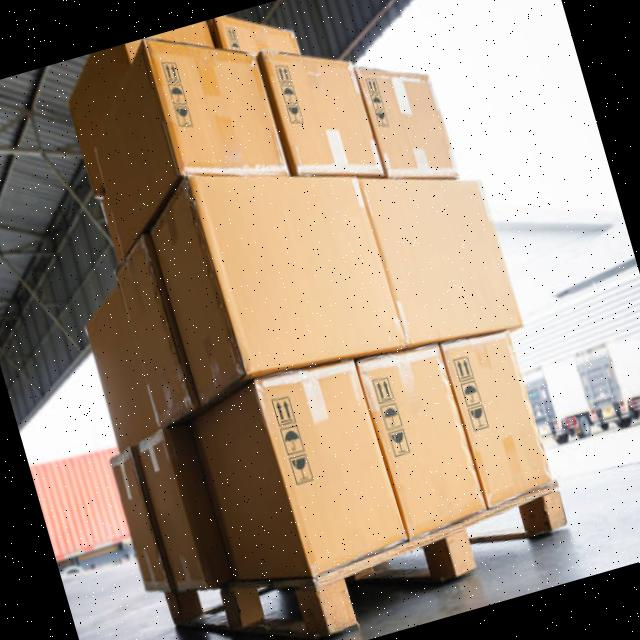Wooden-Pallets: (169, 475, 584, 640)
